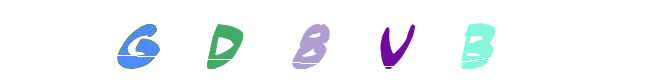8: (284, 0, 364, 80)
B: (353, 0, 433, 80)
D: (173, 0, 253, 80)
G: (99, 0, 179, 80)
V: (344, 0, 424, 80)
